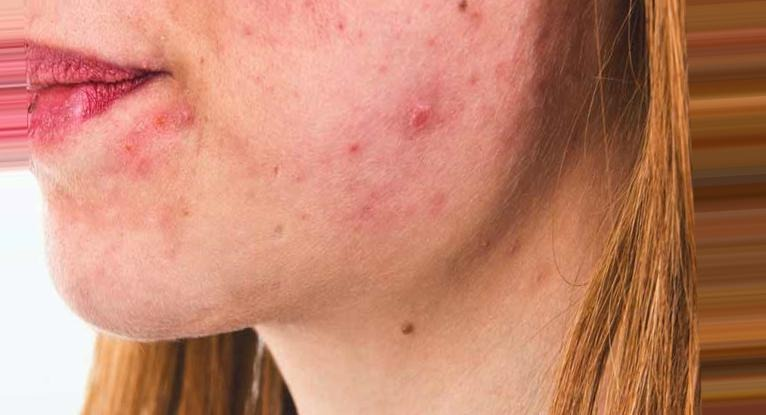Acne: (100, 2, 470, 205)
